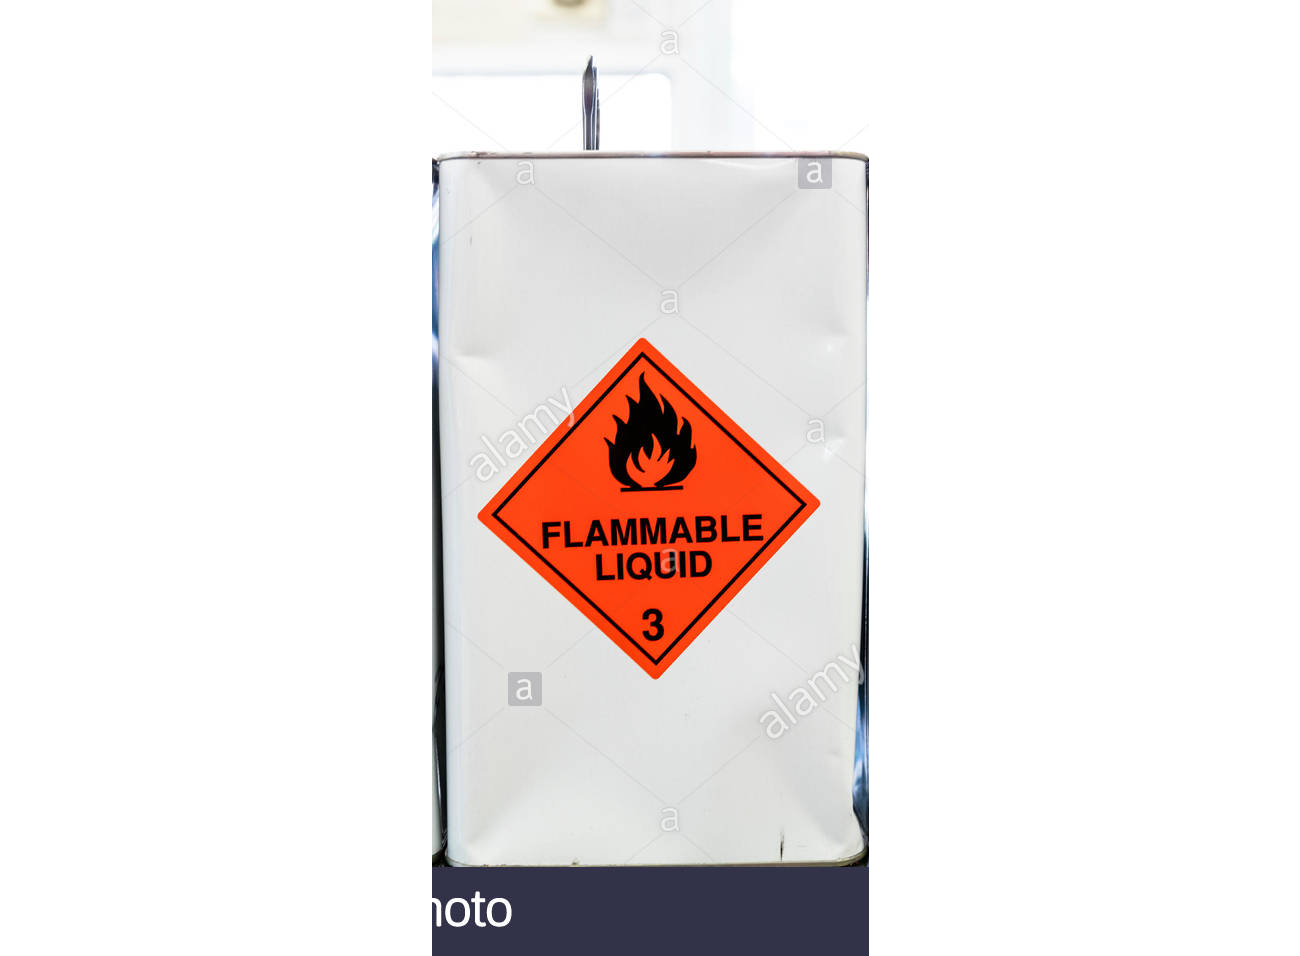FlammableLiquid: (493, 350, 820, 682)
